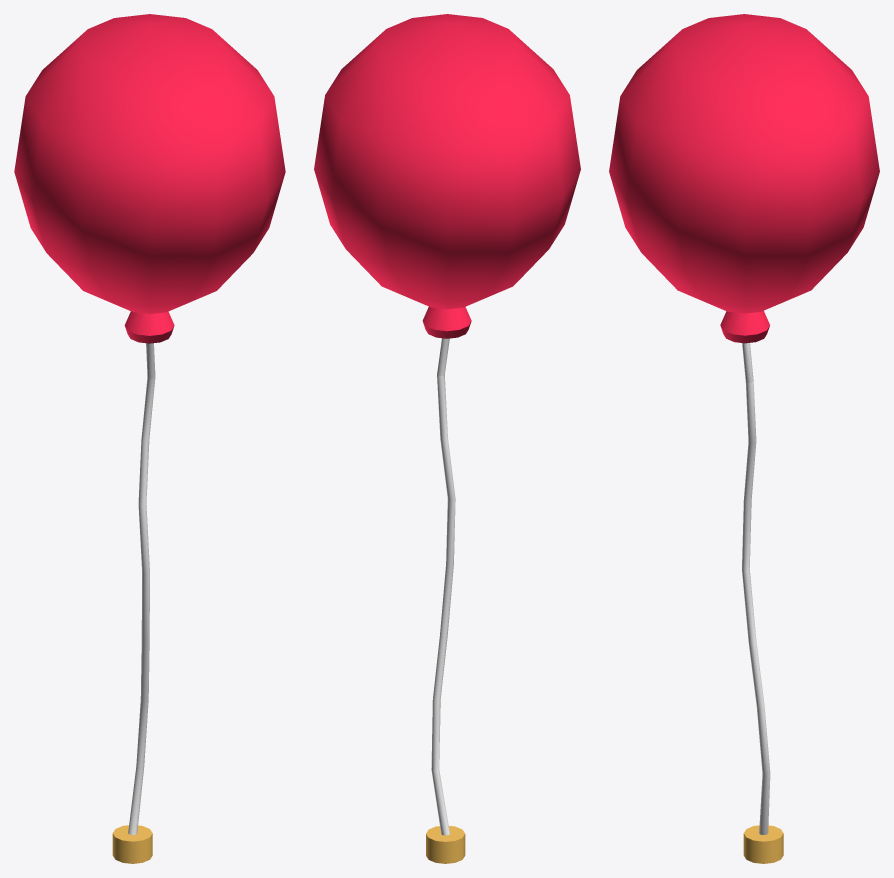
Rendered from Pungsun1-1.fbx.
3 renders of one model, left to right at view 1: azimuth 30°, elevation 25°; view 2: azimuth 150°, elevation 25°; view 3: azimuth 270°, elevation 25°, orthographic.
Parts seen in each view (by area): view 1: Pungsun1-1; view 2: Pungsun1-1; view 3: Pungsun1-1.
Boxes of the visible parts, <box> form: Pungsun1-1: <box>14,14,285,863</box>; Pungsun1-1: <box>314,14,580,863</box>; Pungsun1-1: <box>609,14,879,863</box>.
Bounding box in the file's own units: 0.2115 × 0.7189 × 0.2115.
